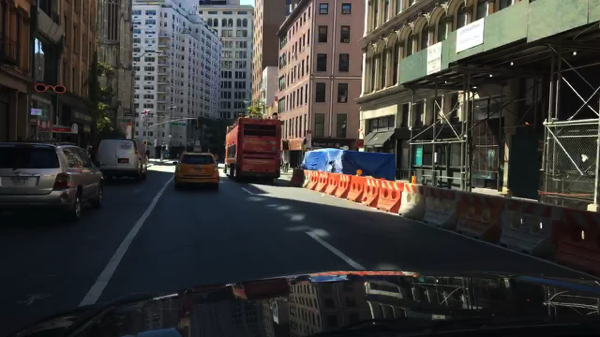bus: (225, 116, 283, 181)
car: (1, 140, 105, 224), (97, 138, 149, 181), (175, 144, 220, 192)
motor: (196, 121, 198, 130)
traffic sign: (169, 121, 186, 127), (30, 108, 43, 115), (355, 139, 364, 147), (125, 112, 136, 118)
